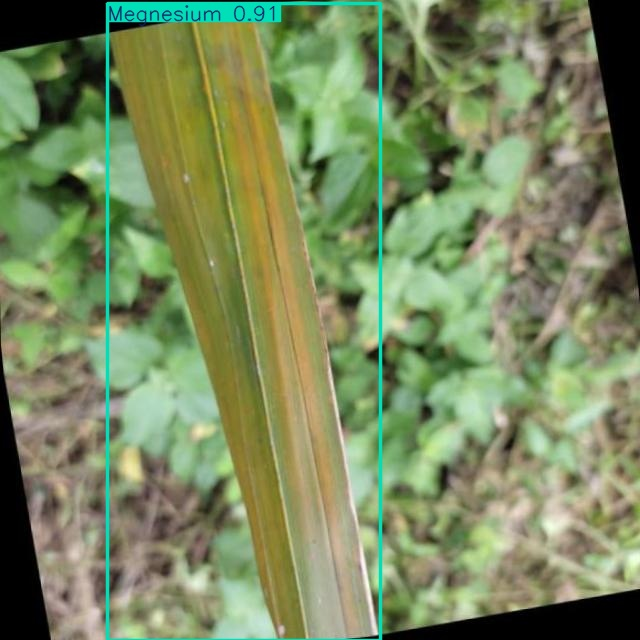Megnesium: (107, 4, 380, 640)
